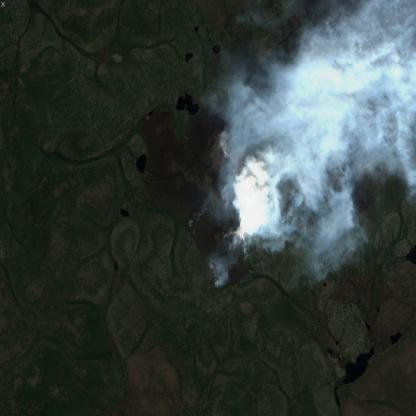fire: (202, 148, 261, 297)
